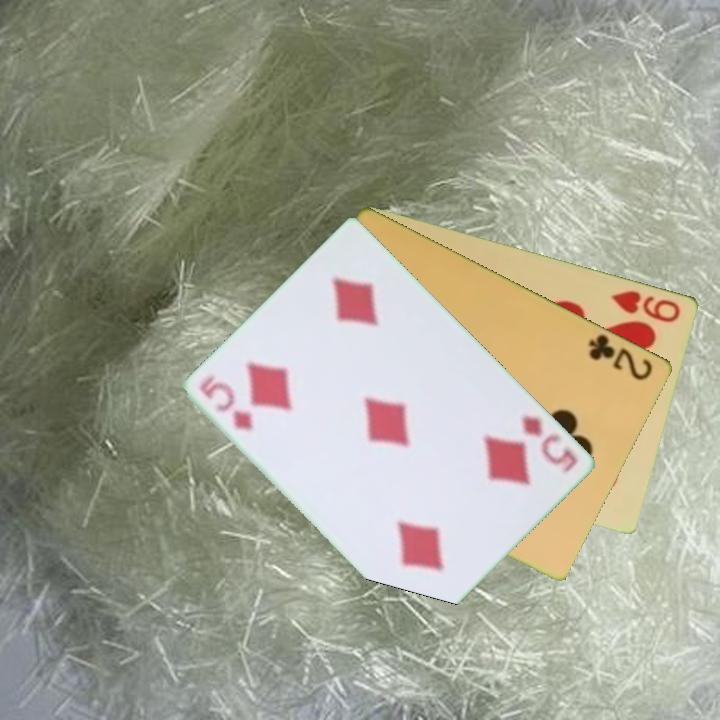2c: (585, 330, 656, 383)
5d: (518, 411, 581, 478), (196, 374, 257, 434)
9h: (609, 286, 684, 325)
